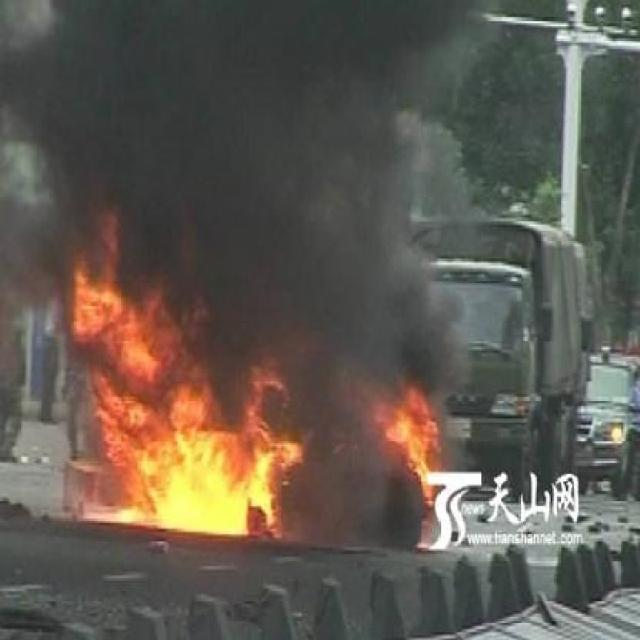Fire: (66, 176, 311, 572), (334, 366, 439, 516)
Smoke: (44, 0, 507, 183), (316, 189, 473, 373)
